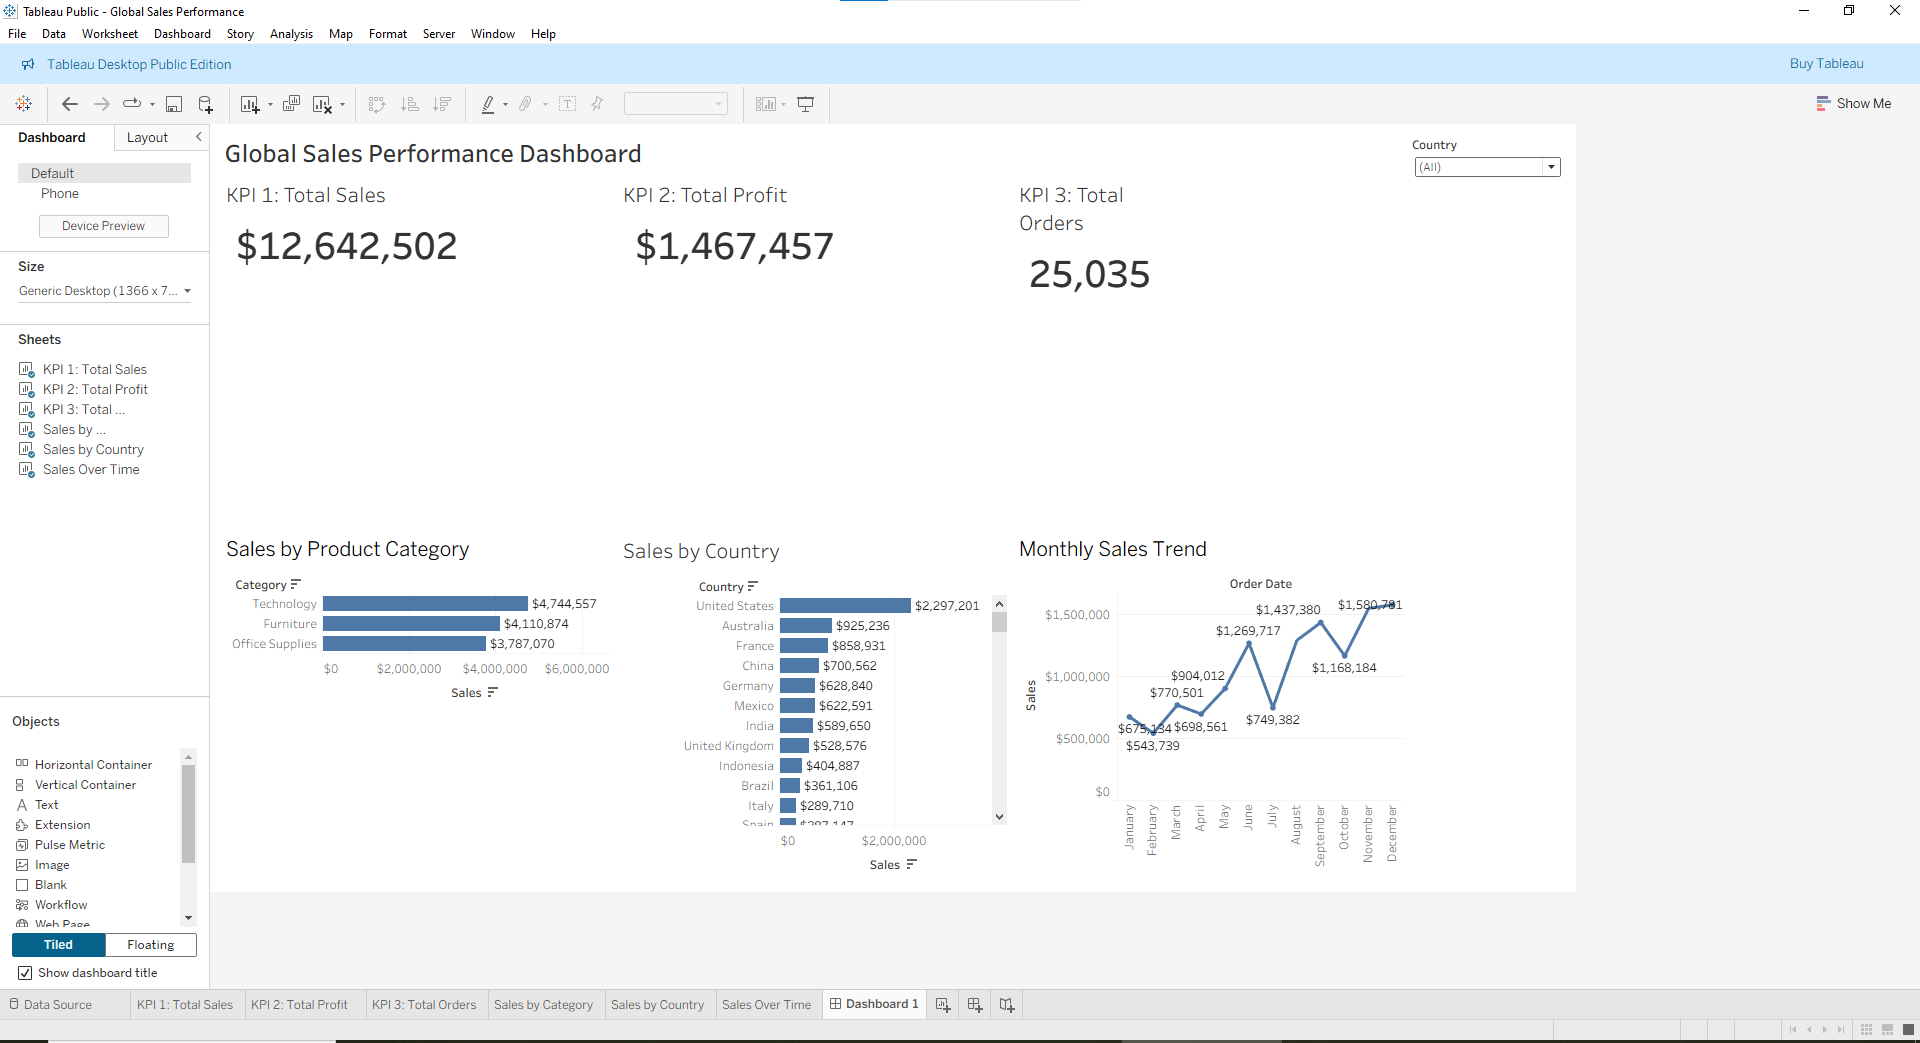

Layout of this report page (visuals, bound fields, positions):
{"tool":"tableau","page":{"name":"Dashboard 1","canvas":[1366,768],"ordinal":0},"visuals":[{"type":"title","box":[8,8,1190,40]},{"type":"filter","title":"Sales by Country","param":"[federated.0hwtfj705bihuq1ek5z5i0lpkihf].[none:Country:nk]","box":[1198,8,160,52]},{"type":"worksheet","title":"KPI 1: Total Sales","mark":"Text","box":[8,48,396.7,356]},{"type":"worksheet","title":"KPI 2: Total Profit  ","mark":"Automatic","box":[404.7,48,396.7,356]},{"type":"worksheet","title":"KPI 3: Total Orders","mark":"Automatic","box":[801.3,48,396.7,356]},{"type":"worksheet","title":"Sales by Category","mark":"Automatic","rows":["Category"],"cols":["Sales"],"box":[8,404,396.7,356]},{"type":"worksheet","title":"Sales by Country","mark":"Automatic","rows":["Country"],"cols":["Sales"],"box":[404.7,404,396.7,356]},{"type":"worksheet","title":"Sales Over Time","mark":"Line","rows":["Sales"],"cols":["Order Date"],"box":[801.3,404,396.7,356]}]}

Visuals, with their boxes on the page's 1366x768 design canvas (x1, y1, x2, y2). These are canvas units, not pixel positions in the 1920x1043 screenshot, which may show the page scaled, cropped or inside an application window:
title: BBox(8, 8, 1198, 48)
"Sales by Country" filter: BBox(1198, 8, 1358, 60)
"KPI 1: Total Sales" worksheet (Text marks): BBox(8, 48, 405, 404)
"KPI 2: Total Profit  " worksheet: BBox(405, 48, 801, 404)
"KPI 3: Total Orders" worksheet: BBox(801, 48, 1198, 404)
"Sales by Category" worksheet: BBox(8, 404, 405, 760)
"Sales by Country" worksheet: BBox(405, 404, 801, 760)
"Sales Over Time" worksheet (Line marks): BBox(801, 404, 1198, 760)
